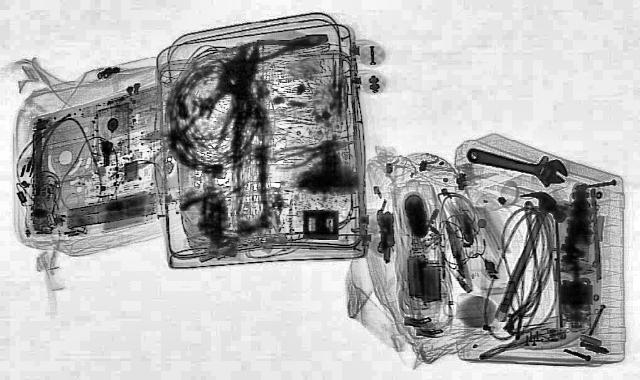Pliers: (217, 26, 336, 68), (264, 131, 360, 171)
Wrench: (456, 140, 578, 189)
